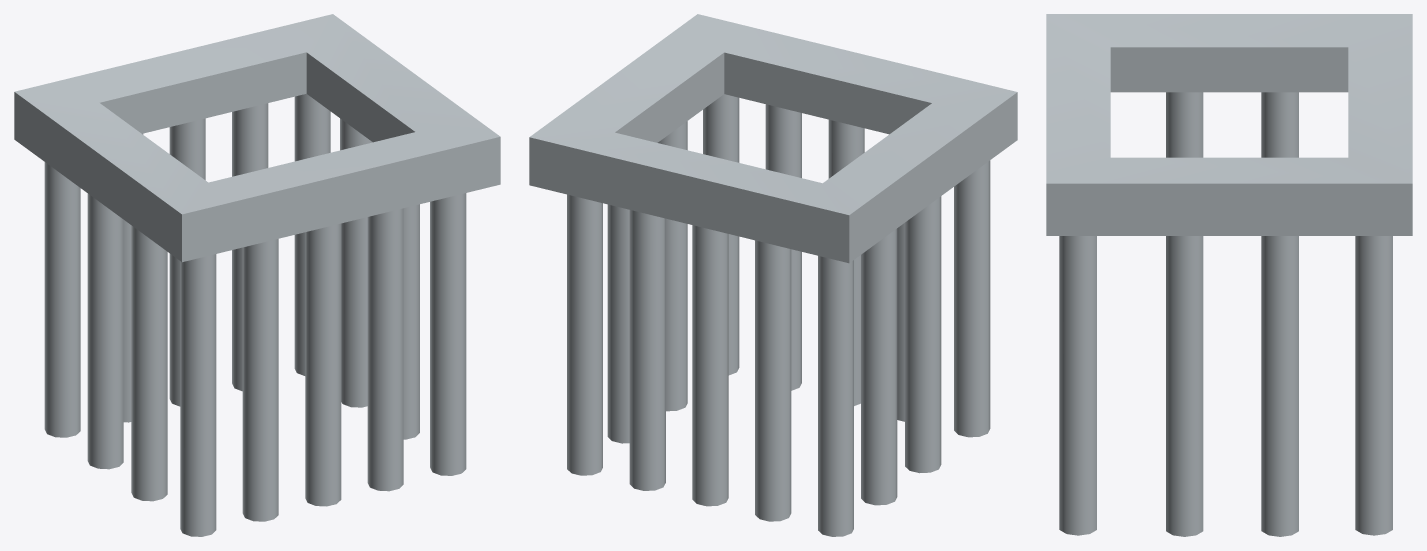
Rendered from longzi_01.FBX.
The picture shows the model from 3 angles, left to right: view 1: azimuth 30°, elevation 25°; view 2: azimuth 150°, elevation 25°; view 3: azimuth 270°, elevation 25°; orthographic projection. The views are drawn at different scales.
Parts seen in each view (by area): view 1: longzi_01; view 2: longzi_01; view 3: longzi_01.
Part boxes in pixels (x1,y1,x2,y2): longzi_01: (14,14,500,536); longzi_01: (529,14,1017,536); longzi_01: (1046,14,1412,536).
Bounding box in the file's own units: 53.35 × 53.32 × 48.63.
